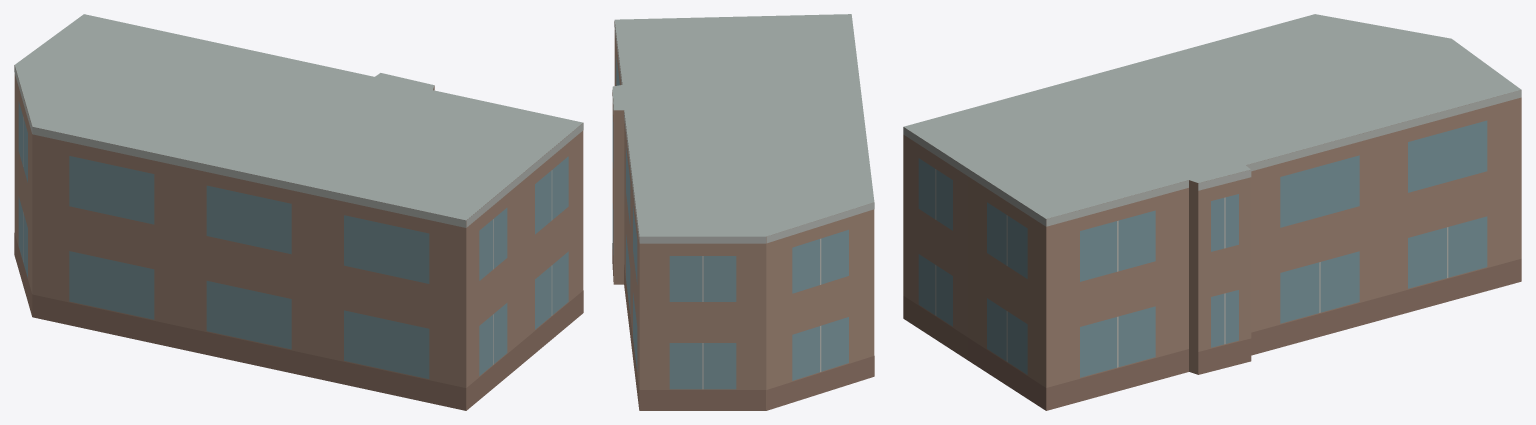
The model's file is survey-upis-32609826.glb.
3 views of the same model, side by side, from view 1: azimuth 30°, elevation 25°; view 2: azimuth 150°, elevation 25°; view 3: azimuth 270°, elevation 25° (orthographic). The views are drawn at different scales.
Parts seen in each view (by area): view 1: survey-upis-32609826.tmp; view 2: survey-upis-32609826.tmp; view 3: survey-upis-32609826.tmp.
Boxes of the visible parts, left/top/right/bottom form: survey-upis-32609826.tmp: left=14, top=14, right=583, bottom=410; survey-upis-32609826.tmp: left=612, top=14, right=874, bottom=410; survey-upis-32609826.tmp: left=903, top=14, right=1521, bottom=410.
Size of the model in its own units: 14 by 6.1 by 17.83.
